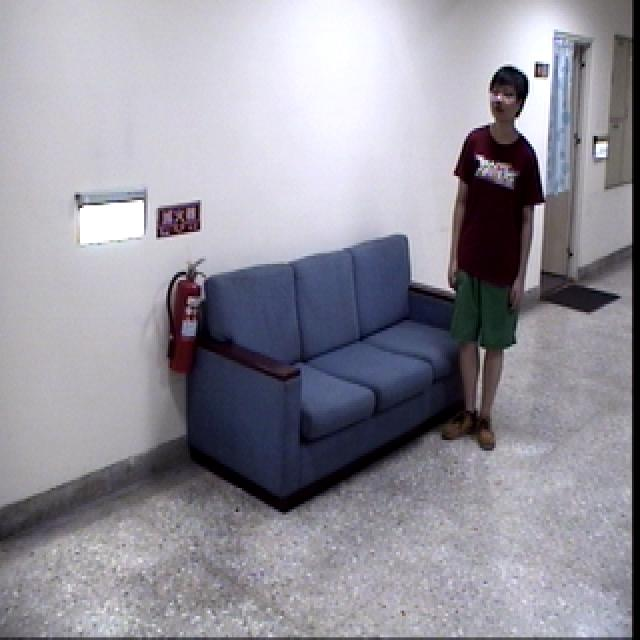stand: (436, 56, 548, 462)
